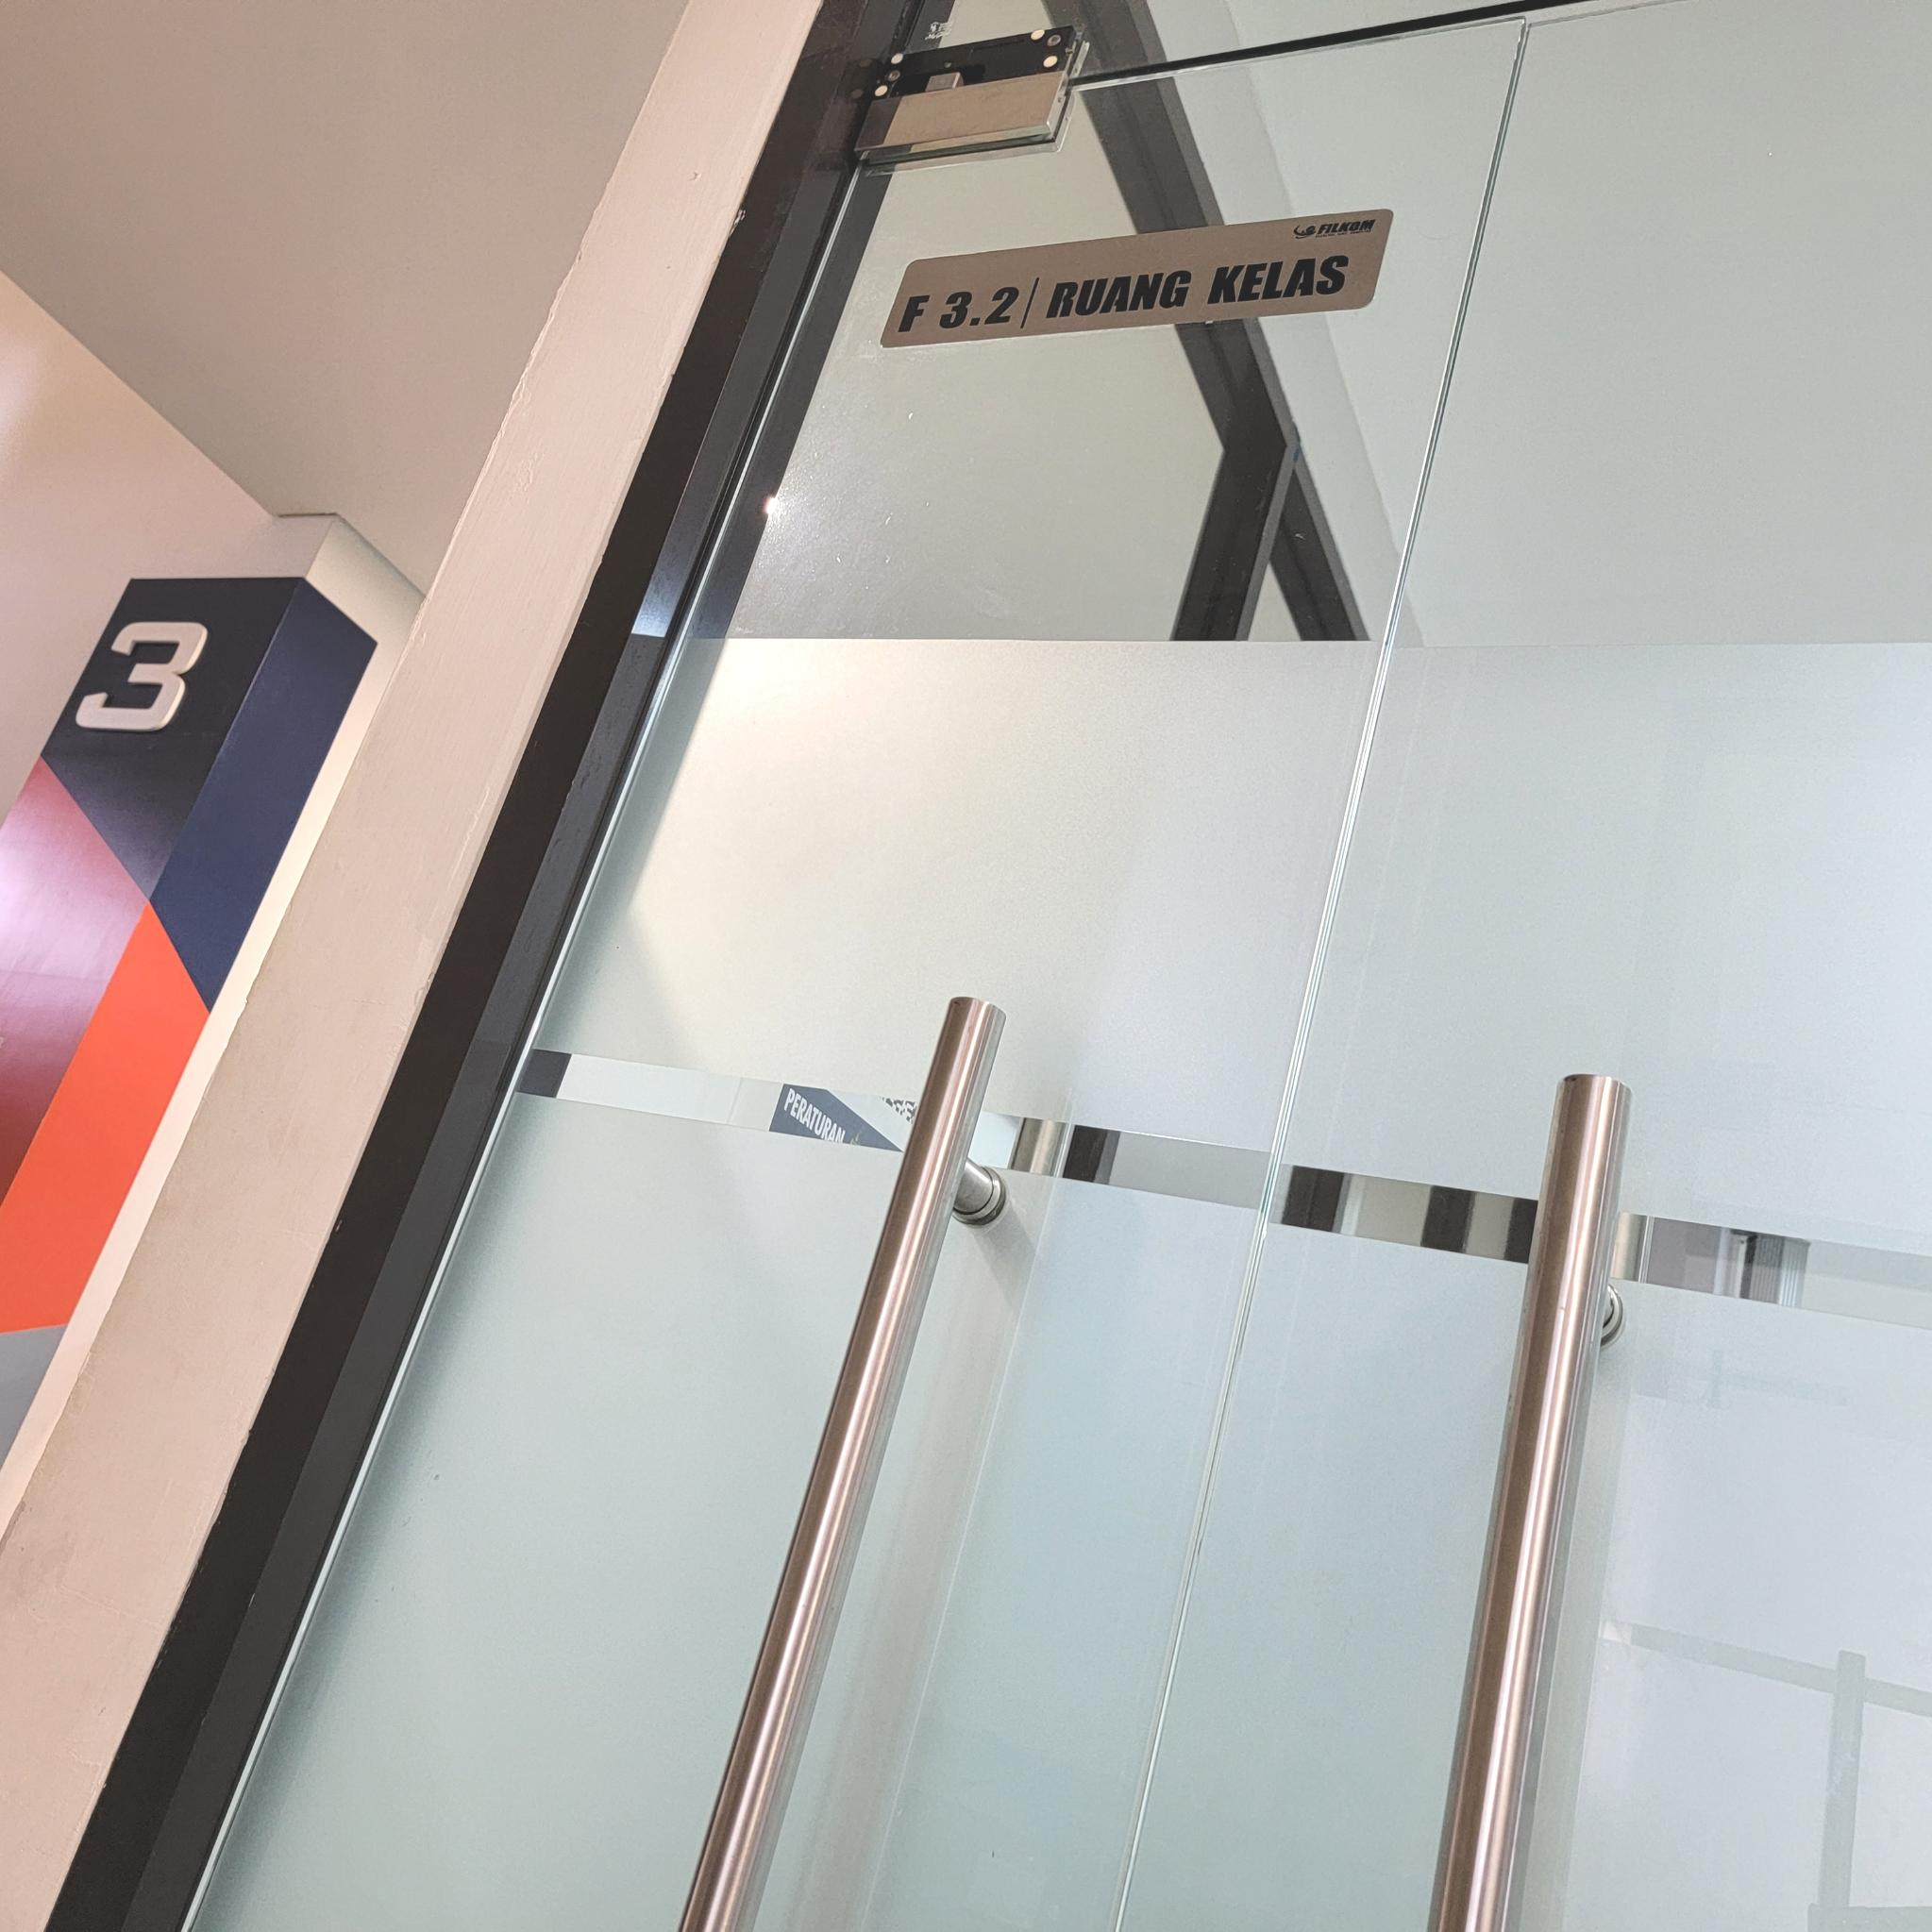plate: (879, 211, 1394, 349)
